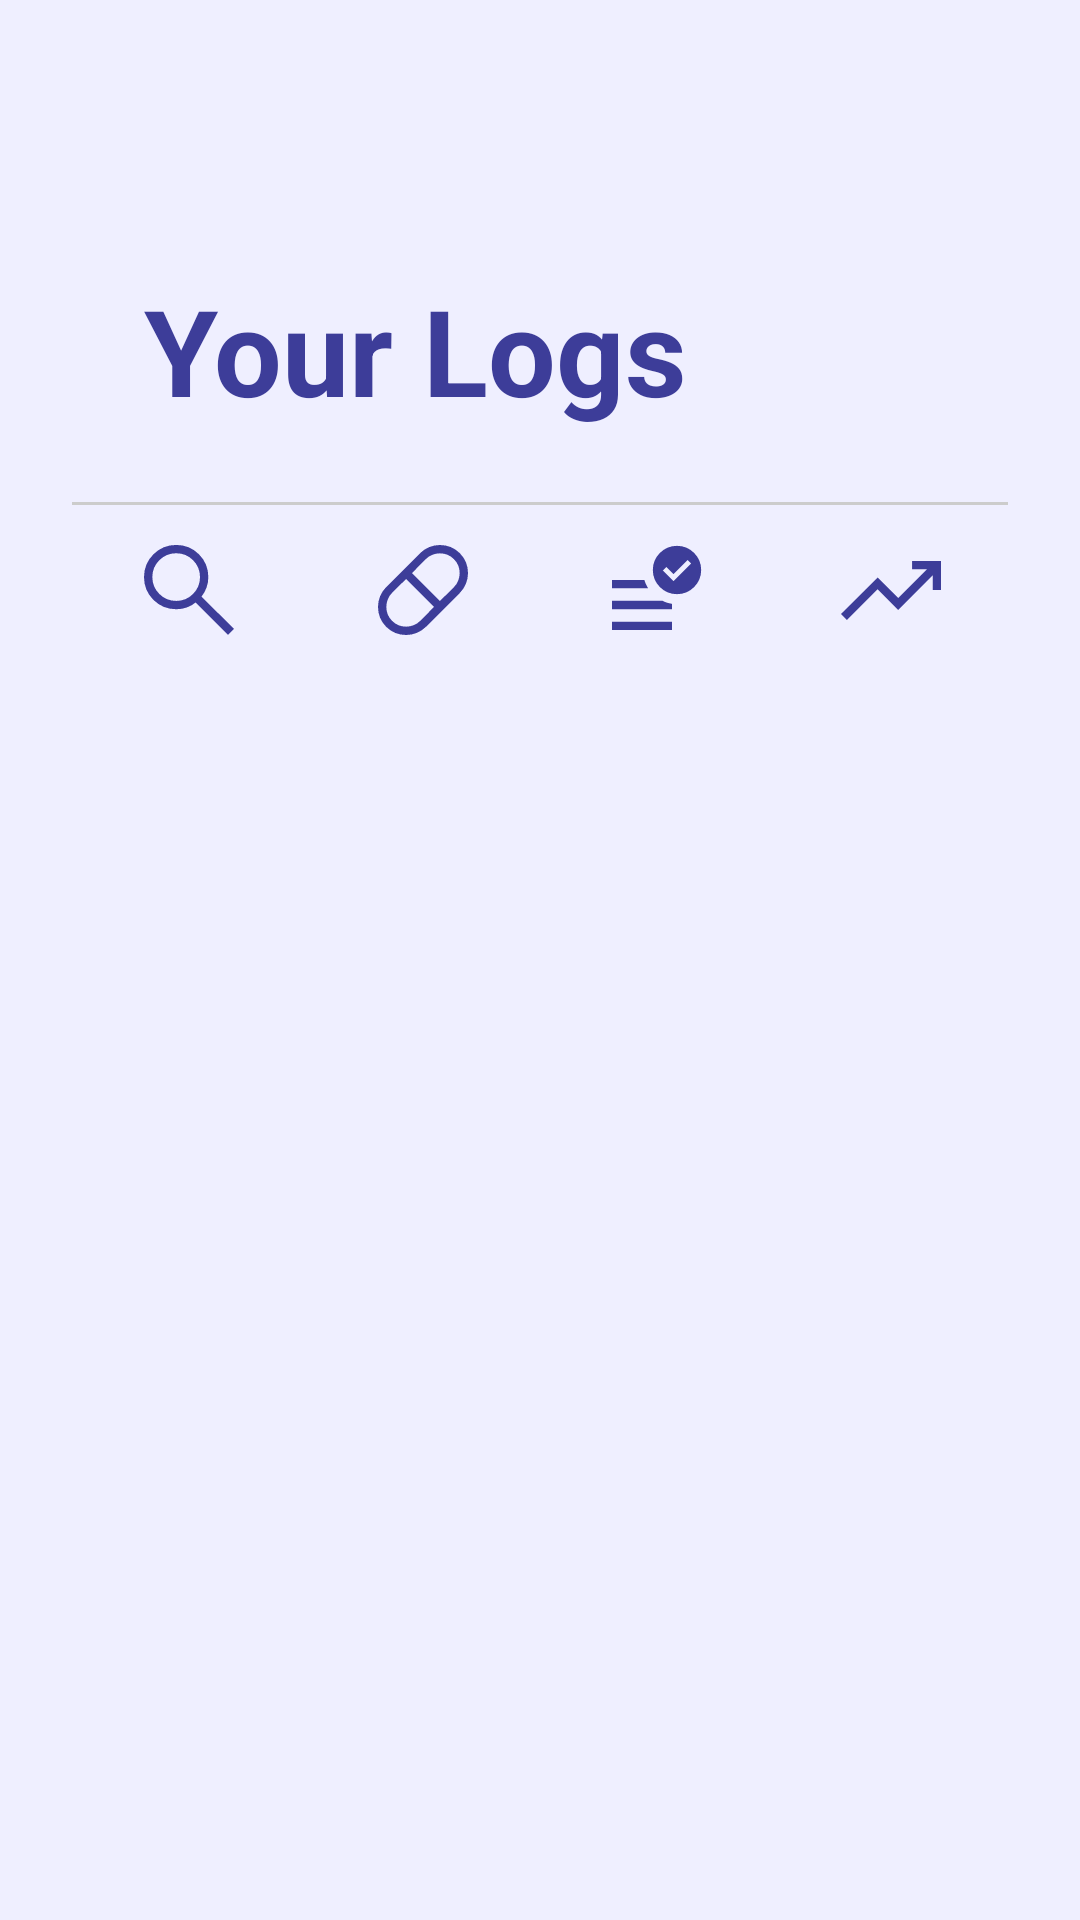

Point at icon controls on the screen. Image size 1080x1920, points as point (x, y).
Meds: point (423, 590)
Search: point (189, 590)
Stats: point (891, 590)
